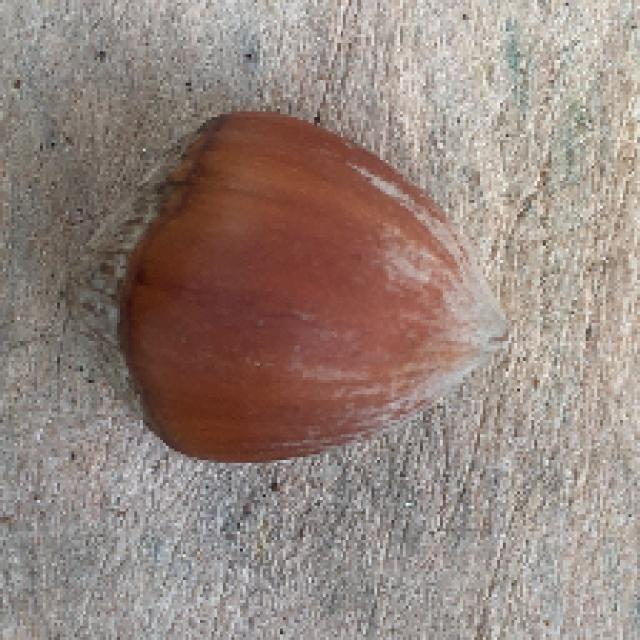qualityHazelnut: (84, 110, 512, 464)
